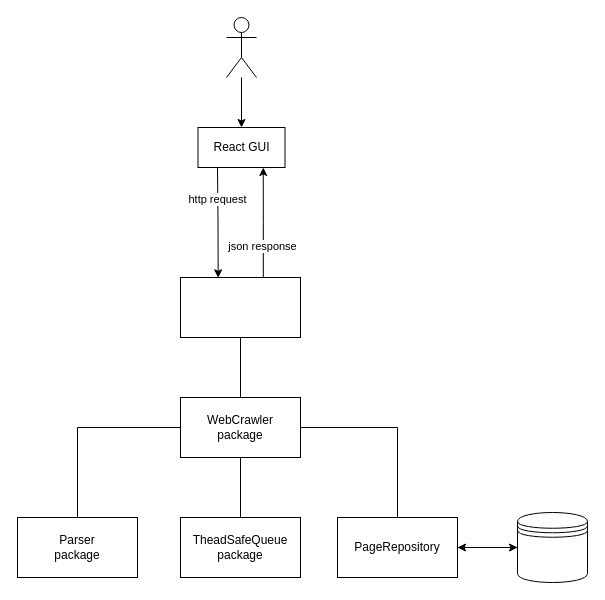
Some shapes in this 605 by 600 pixel diagram are drawn without their labels. Each missing label, with the centre of its shape:
"Controller server package" belongs at (x=240, y=307).
"sqlite database" belongs at (x=552, y=547).
